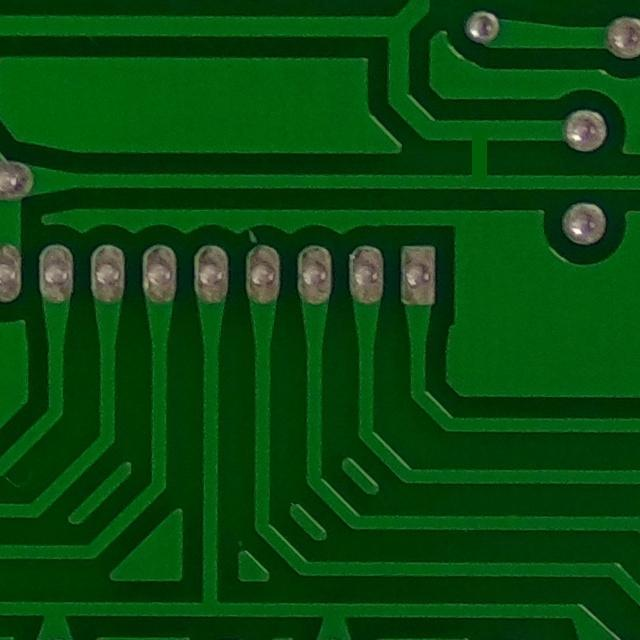short: (449, 104, 509, 201)
